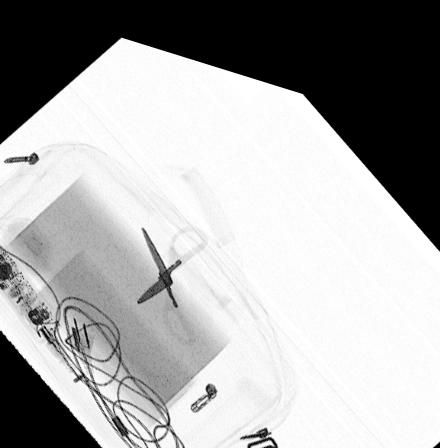Scissors: (134, 211, 210, 336)
